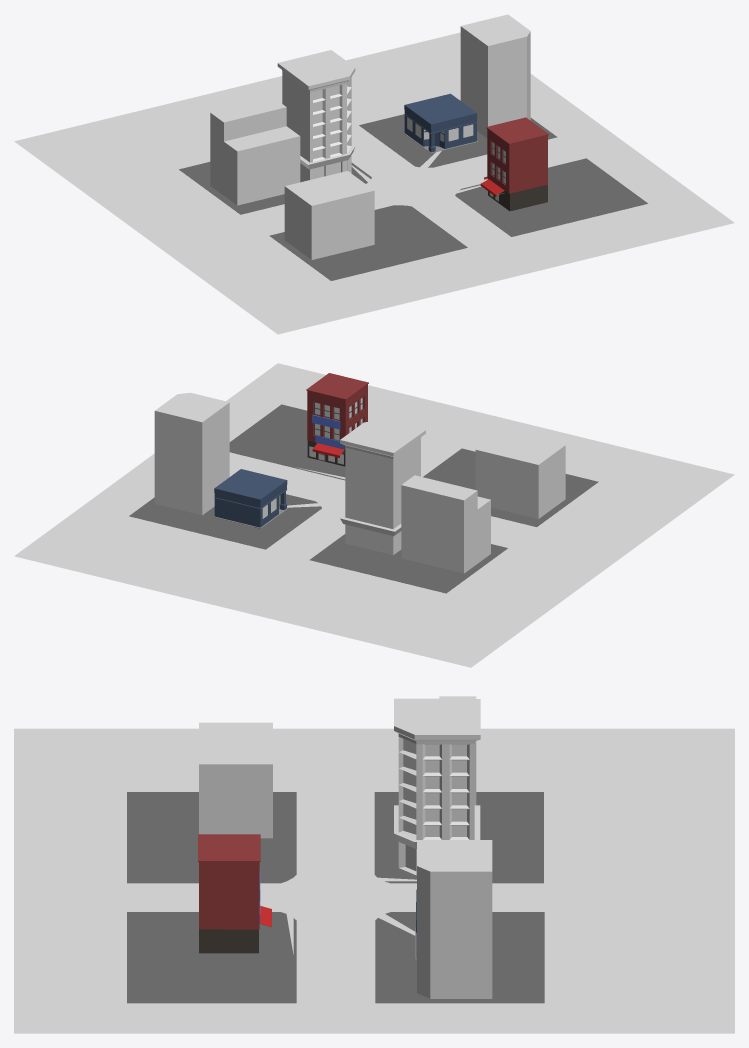
Rendered from earth1.fbx.
3 renders of one model, top to bottom at view 1: azimuth 30°, elevation 25°; view 2: azimuth 150°, elevation 25°; view 3: azimuth 270°, elevation 25°, orthographic. The views are drawn at different scales.
Parts seen in each view (by area): view 1: Plane, Cube.001, Cube, Cube.009, Cube.002, Cube.006, Cube.004, lower window.001, Cube.008, Cube.005, Cube.003; view 2: Plane, Cube, Cube.009, Cube.001, Cube.002, Cube.006, Cube.005, Cube.003, Cube.008, lower window.001, Cube.004; view 3: Plane, Cube.006, Cube, Cube.009, Cube.004, Cube.005, Cube.002, Cube.003, lower window.001.
Part boxes in pixels (<box>): Plane: <box>14,32,734,334</box>; Cube.001: <box>210,97,300,205</box>; Cube: <box>277,50,355,181</box>; Cube.009: <box>460,14,530,138</box>; Cube.002: <box>284,171,374,259</box>; Cube.006: <box>455,158,647,236</box>; Cube.004: <box>269,205,467,280</box>; lower window.001: <box>486,117,548,211</box>; Cube.008: <box>403,93,478,153</box>; Cube.005: <box>359,100,557,167</box>; Cube.003: <box>179,162,371,214</box>; Plane: <box>14,363,734,667</box>; Cube: <box>340,420,425,555</box>; Cube.009: <box>154,392,229,515</box>; Cube.001: <box>401,475,490,573</box>; Cube.002: <box>475,430,565,518</box>; Cube.006: <box>229,404,345,480</box>; Cube.005: <box>129,494,321,549</box>; Cube.003: <box>309,534,507,593</box>; Cube.008: <box>213,469,287,528</box>; lower window.001: <box>306,373,368,466</box>; Cube.004: <box>423,448,598,526</box>; Plane: <box>14,728,734,1033</box>; Cube.006: <box>127,912,296,1003</box>; Cube: <box>394,698,480,875</box>; Cube.009: <box>417,840,492,998</box>; Cube.004: <box>127,792,296,883</box>; Cube.005: <box>375,912,544,1003</box>; Cube.002: <box>199,722,272,838</box>; Cube.003: <box>374,792,543,883</box>; lower window.001: <box>198,834,260,953</box>.
Bounding box in the file's own units: 27792 × 6289 × 27792.
